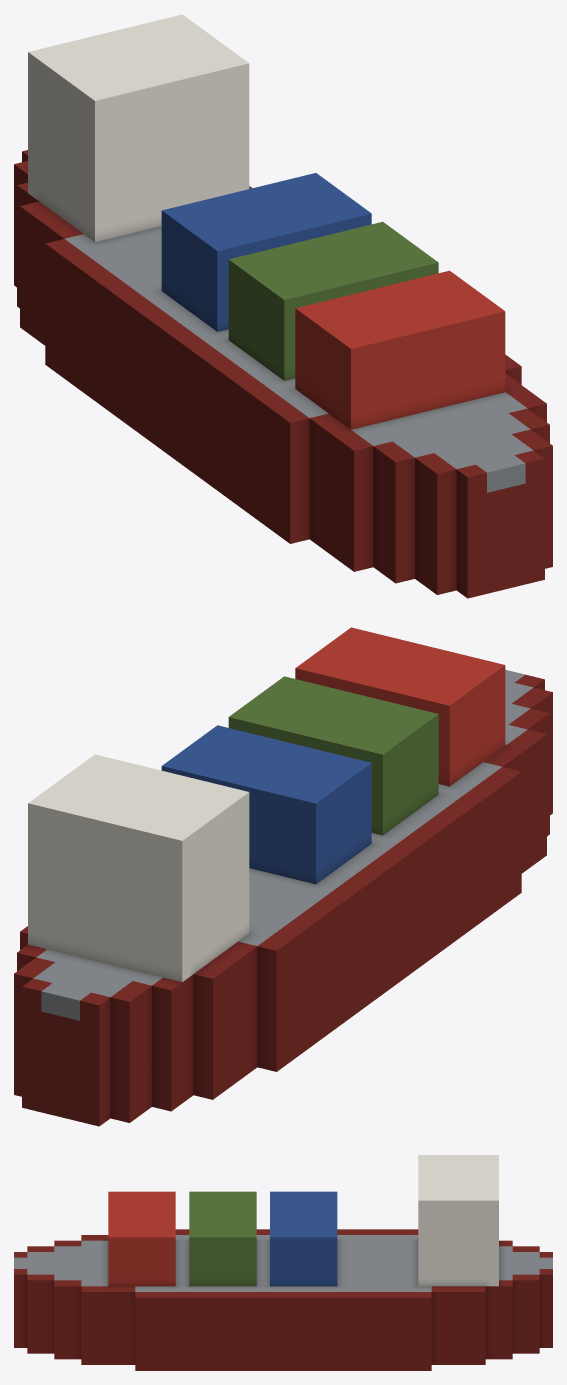
The model's file is u_cargo.glb.
3 views of the same model, one above another, from view 1: azimuth 30°, elevation 25°; view 2: azimuth 150°, elevation 25°; view 3: azimuth 270°, elevation 25° (orthographic). The views are drawn at different scales.
Visible parts, largest first — view 1: u_cargo_body; view 2: u_cargo_body; view 3: u_cargo_body.
Part boxes in pixels (x1,y1,x2,y2): u_cargo_body: (14, 14, 552, 598); u_cargo_body: (14, 627, 552, 1126); u_cargo_body: (14, 1155, 552, 1370).
Size of the model in its own units: 0.75 by 0.8125 by 2.5.
1 material, 1 textured.
